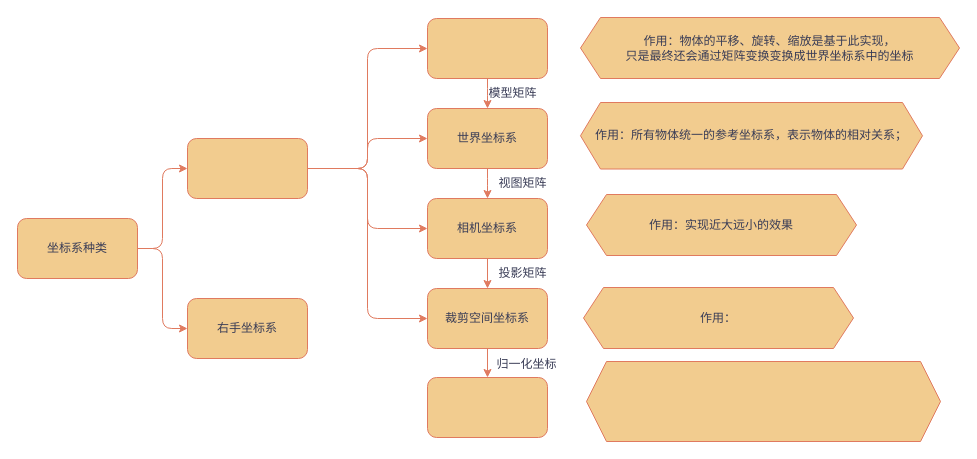
Some shapes in this 977 by 459 pixel diagram are drawn without their labels. The shapes that lost their labels are listed below. From the top down, each one's box as (x1, y1, x2, y2) in pixels, then its label:
(426, 18, 548, 78): 局部坐标系
(186, 138, 308, 198): 左手坐标系
(426, 376, 548, 438): 屏幕坐标系
(586, 360, 940, 442): canvas坐标系，左上角为原点，X轴向右为正方向，Y轴向下为正方向 https://juejin.cn/post/7002975543406788644
